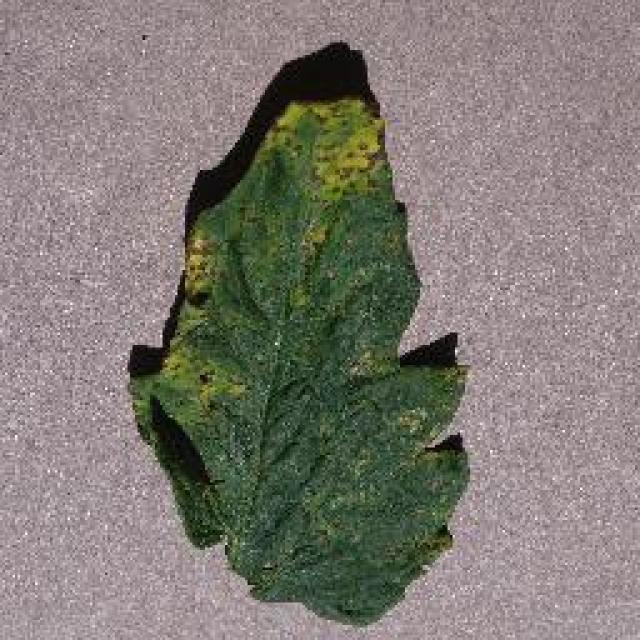Tomato Septoria spot leaf: (125, 95, 477, 625)
